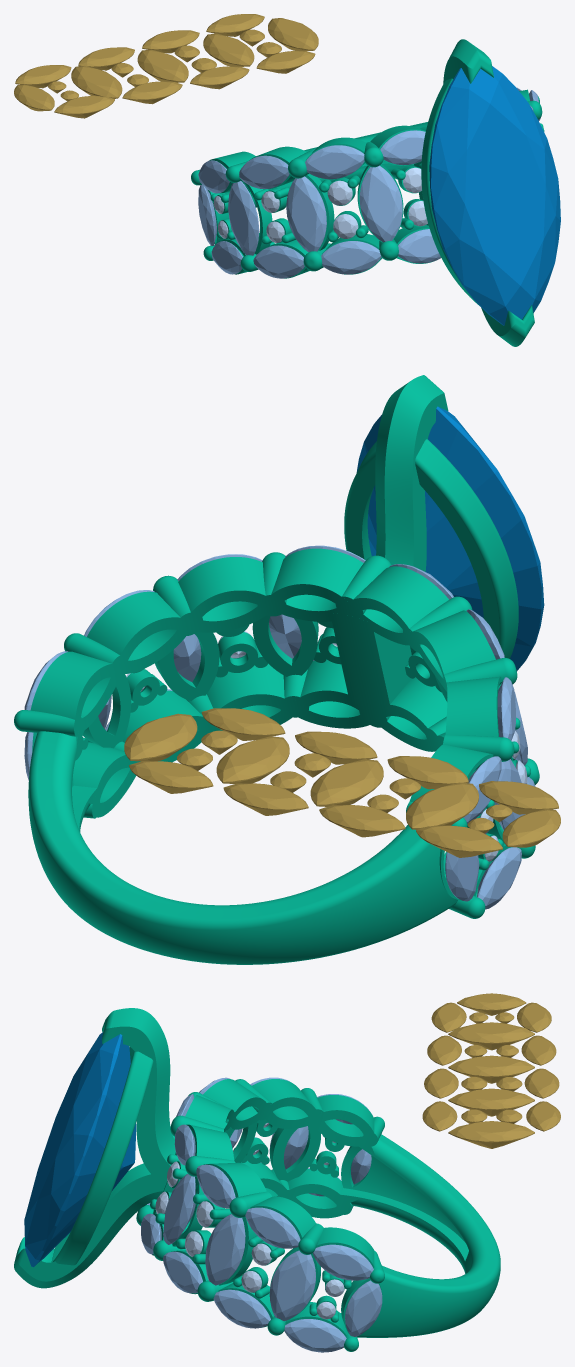
3 views of the same model, one above another, from view 1: azimuth 30°, elevation 25°; view 2: azimuth 150°, elevation 25°; view 3: azimuth 270°, elevation 25° (orthographic). The views are drawn at different scales.
Visible parts, largest first — view 1: Diamond_Marquise (×26), VR1028(1)(base).3dm, Bezel (×7), Diamond_Round (×2); view 2: Bezel (×19), VR1028(1)(base).3dm, Diamond_Marquise (×20); view 3: Diamond_Marquise (×28), VR1028(1)(base).3dm, Bezel (×16).
Boxes of the visible parts, x1,y1,x2,y2 form: Diamond_Marquise (×26): [14, 14, 560, 325]; VR1028(1)(base).3dm: [191, 39, 542, 346]; Bezel (×7): [209, 78, 479, 305]; Diamond_Round (×2): [327, 180, 358, 238]; Bezel (×19): [30, 439, 518, 817]; VR1028(1)(base).3dm: [14, 375, 539, 964]; Diamond_Marquise (×20): [124, 406, 560, 909]; Diamond_Marquise (×28): [24, 993, 560, 1352]; VR1028(1)(base).3dm: [14, 1008, 500, 1351]; Bezel (×16): [51, 1047, 377, 1336].
Size of the model in its own units: 2.97 by 1.81 by 3.18.
